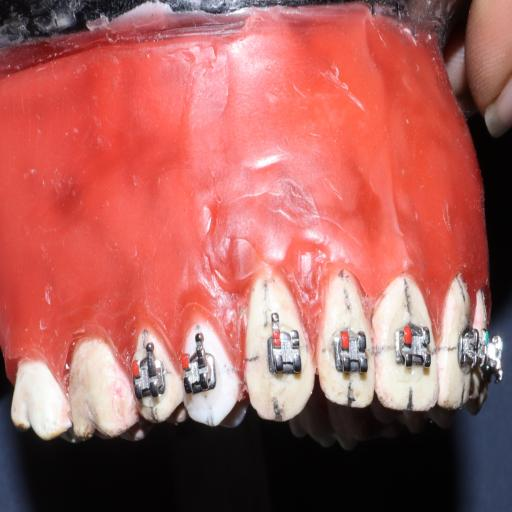incorrect_brace: (265, 320, 307, 383)
